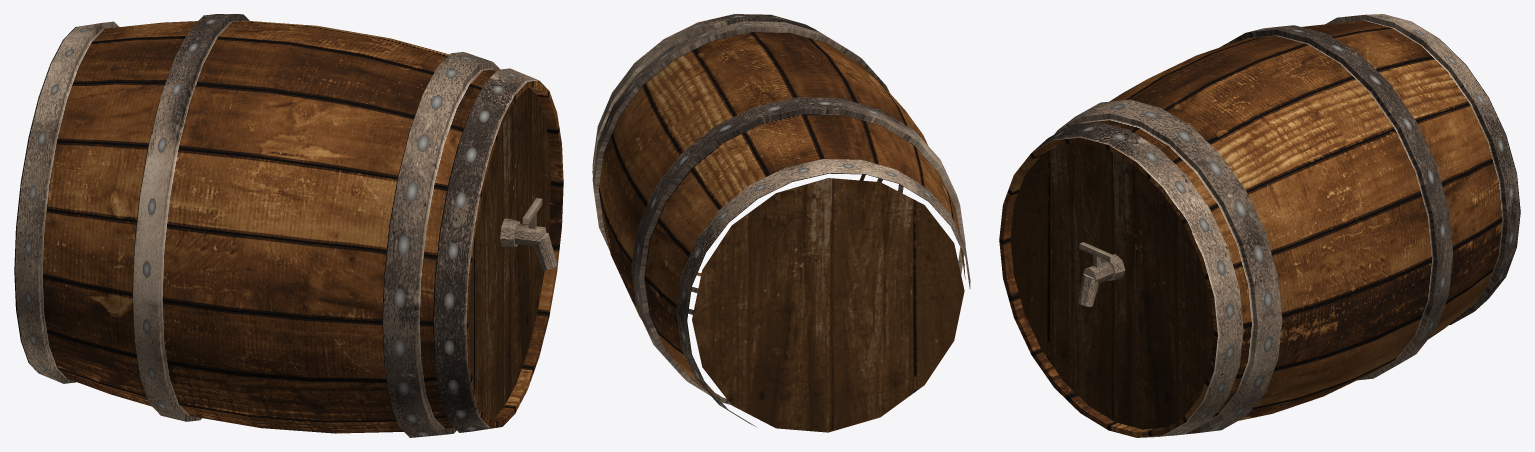
Rendered from mm7_deco_7dec21.glb.
3 views of the same model, side by side, from view 1: azimuth 30°, elevation 25°; view 2: azimuth 150°, elevation 25°; view 3: azimuth 270°, elevation 25° (orthographic). The views are drawn at different scales.
Parts seen in each view (by area): view 1: Cask; view 2: Cask; view 3: Cask.
Part boxes in pixels (<box>): Cask: <box>14,14,563,437</box>; Cask: <box>592,14,970,432</box>; Cask: <box>999,14,1520,437</box>.
Bounding box in the file's own units: 1.57 × 1.12 × 1.58.
Materials: 1 (1 with a texture image).
